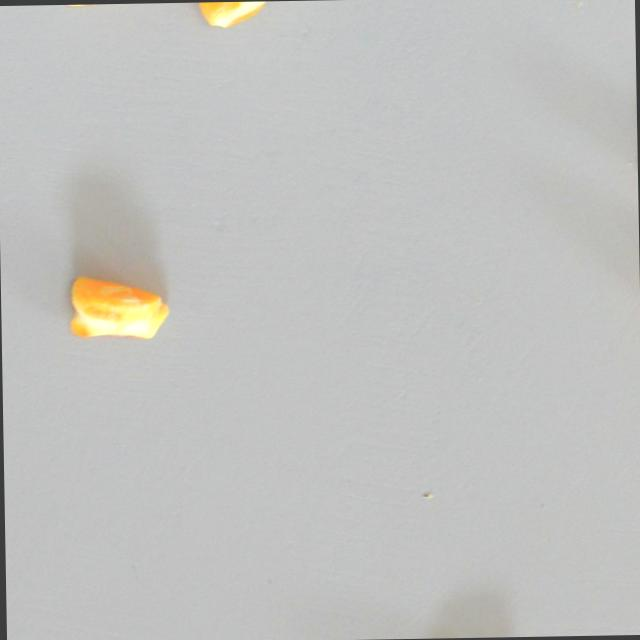pelicula: (64, 262, 170, 360), (187, 0, 304, 33), (620, 107, 638, 224)
